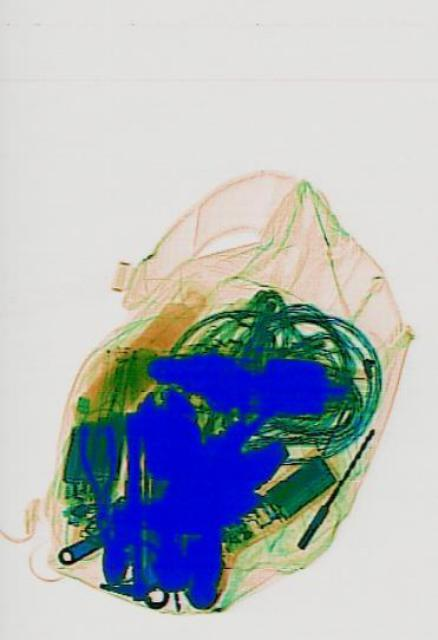Pliers: (73, 419, 120, 531)
